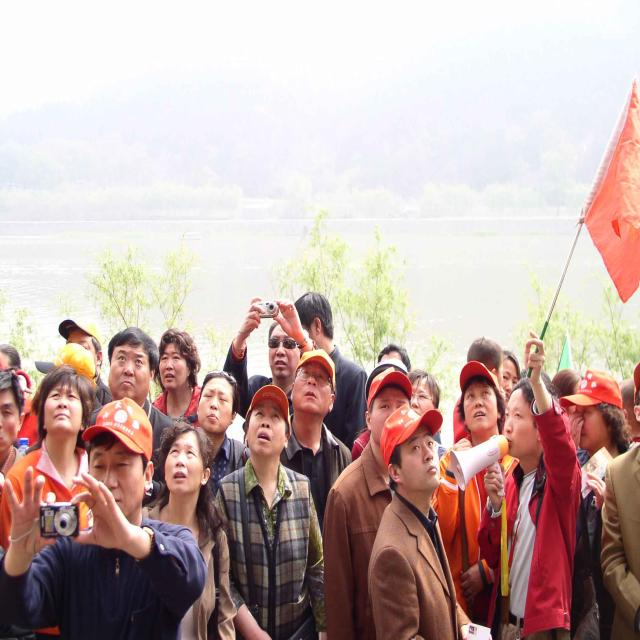body: (0, 314, 640, 458), (0, 398, 211, 640), (447, 328, 585, 640), (212, 382, 329, 640), (366, 403, 492, 640), (318, 365, 414, 640), (0, 363, 94, 640), (432, 359, 522, 628), (142, 419, 238, 640), (558, 367, 634, 640), (88, 324, 183, 510), (278, 347, 354, 537), (221, 294, 323, 424), (598, 356, 640, 640), (294, 292, 368, 453), (194, 368, 252, 502), (454, 334, 506, 446)
